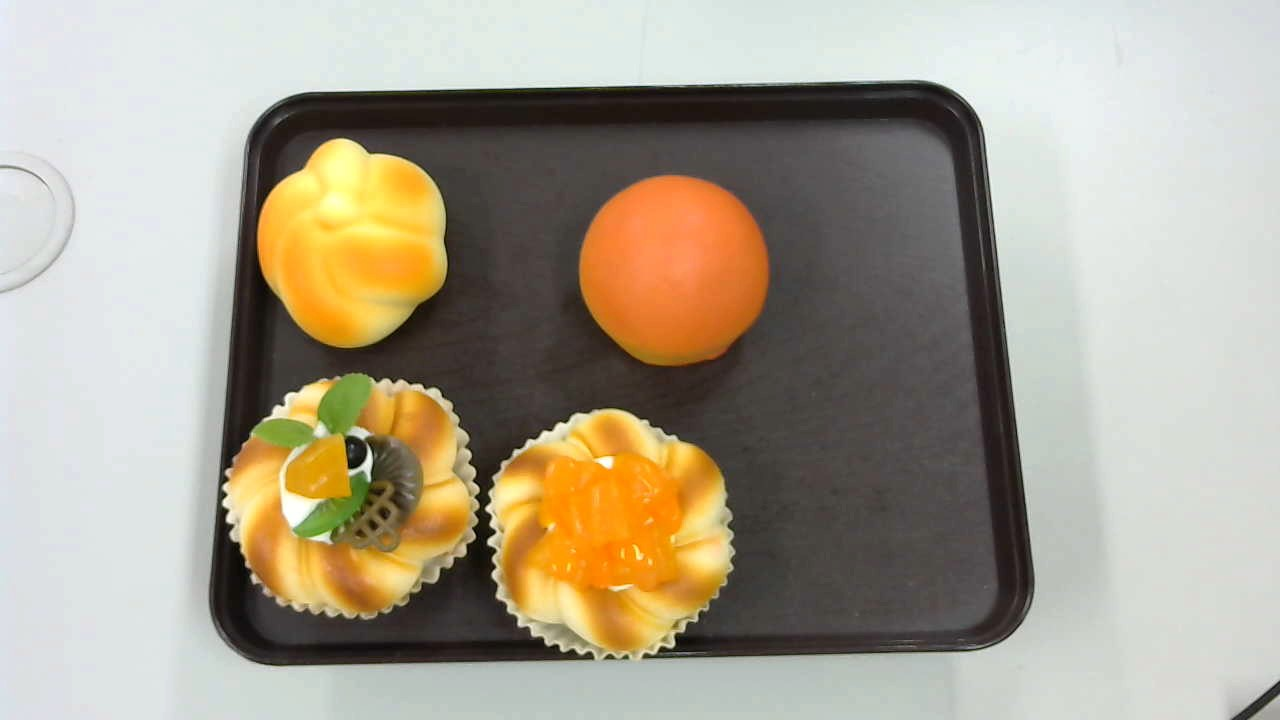bun: (577, 174, 771, 367)
fruit tart: (220, 371, 480, 621)
mango tart: (489, 408, 737, 665)
twist bread: (255, 136, 447, 350)
